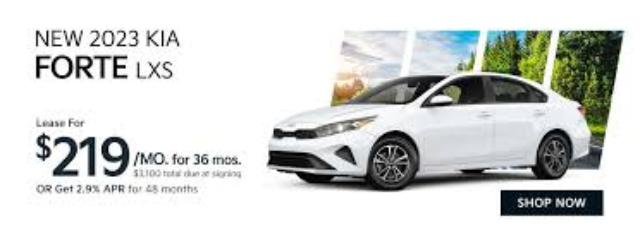kia: (266, 19, 640, 191)
